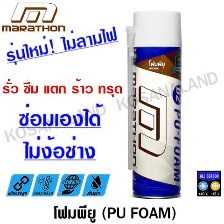aerosol_cans: (125, 6, 184, 204)
